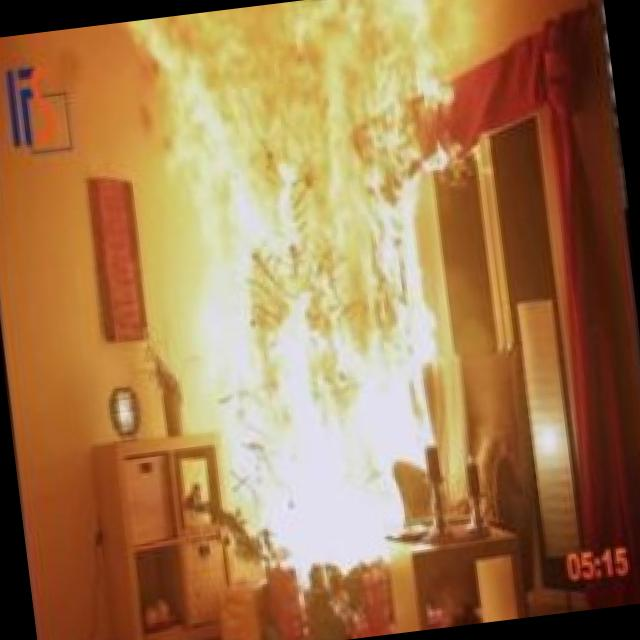fire: (91, 0, 522, 603)
